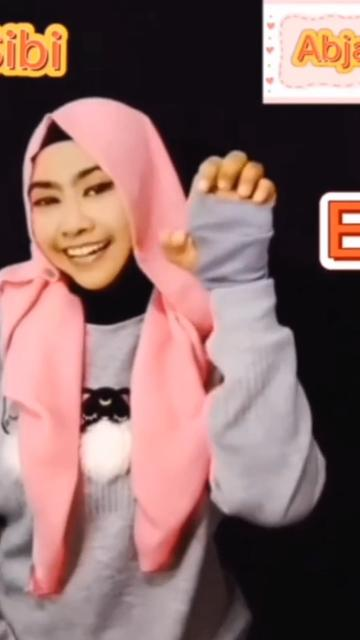E: (162, 150, 274, 288)
